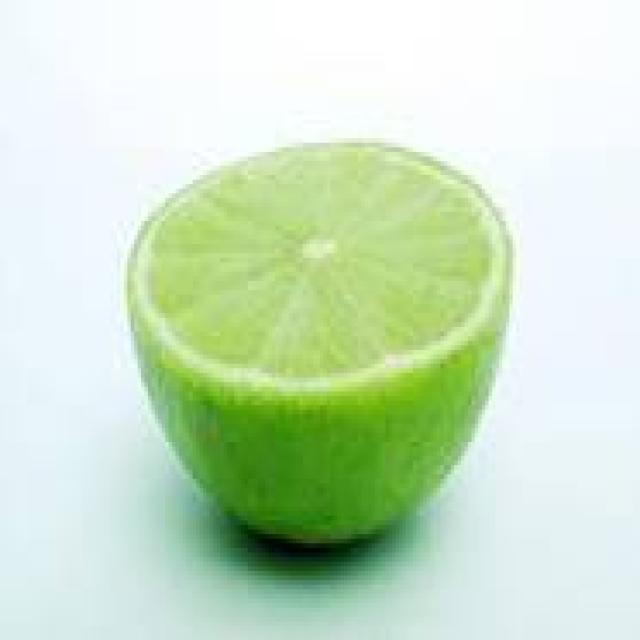lemon: (107, 120, 533, 571)
